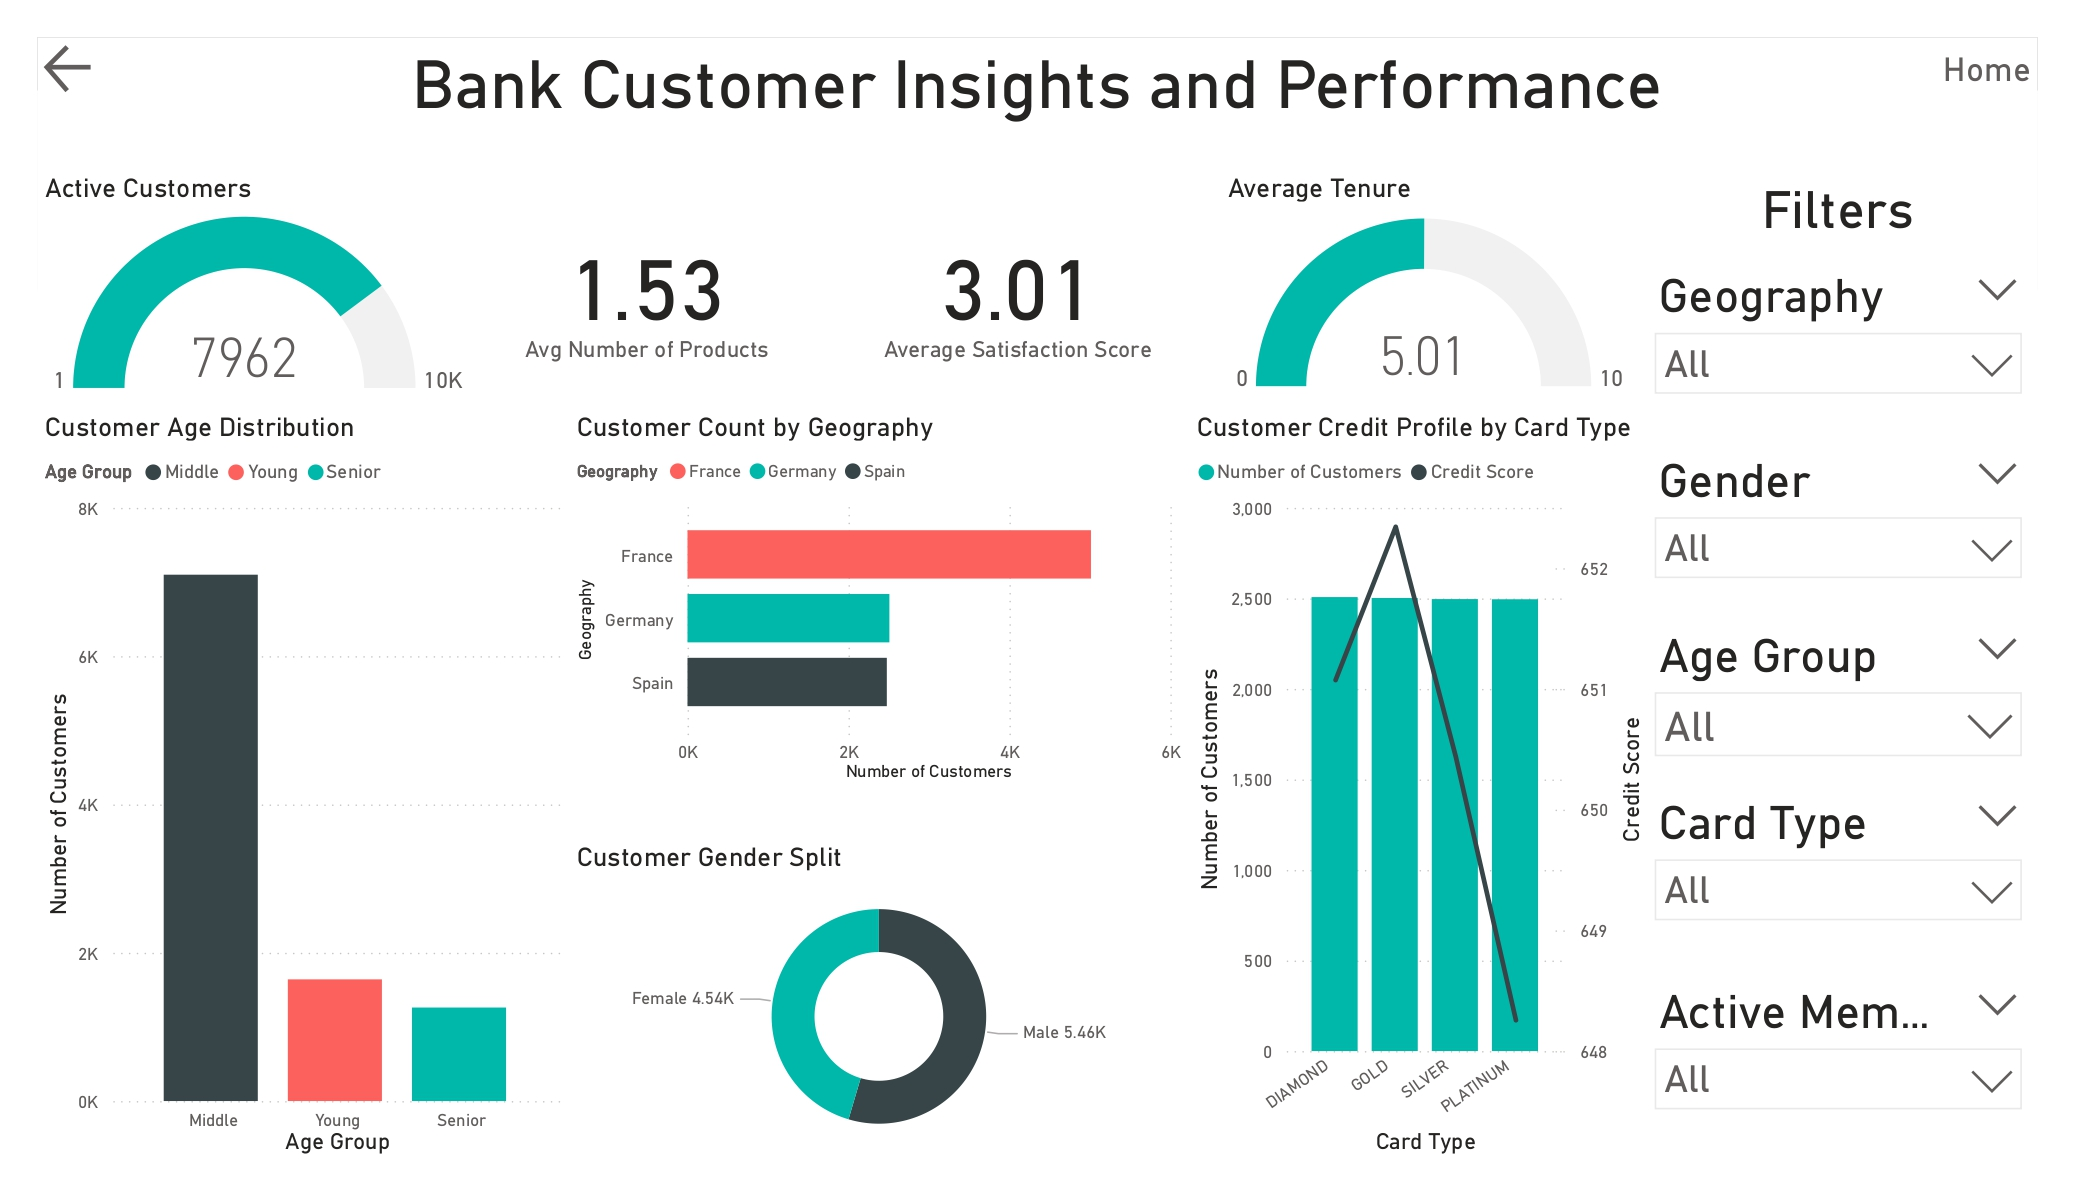

What the dashboard file says about the page in this screenshot:
{"tool":"powerbi","page":{"name":"Bank Customer Insights & Performance","canvas":[1280,720],"ordinal":2},"visuals":[{"type":"gauge","title":"Active Customers","fields":{"Y":["churn_dataset.Active_Customers"],"MinValue":["Min(churn_dataset.CustomerID)"],"MaxValue":["Max(churn_dataset.CustomerID)"]},"box":[0,86.1,282.4,152.5],"z":0},{"type":"textbox","box":[0,0,1280.5,86.1],"z":1000},{"type":"card","title":"Average Number of Products","fields":{"Values":["Avg(churn_dataset.NumOfProducts)"]},"box":[282.4,86.1,216,152.5],"z":2000},{"type":"gauge","title":"Average Tenure","fields":{"Y":["Avg(churn_dataset.Tenure)"],"MinValue":["Min(churn_dataset.Tenure)"],"MaxValue":["Max(churn_dataset.Tenure)"]},"box":[756.7,86.1,268.2,152.5],"z":3000},{"type":"card","fields":{"Values":["Avg(churn_dataset.Satisfaction_Score)"]},"box":[498.4,86.1,258.4,152.5],"z":4000},{"type":"slicer","fields":{"Values":["churn_dataset.Geography"]},"box":[1024.9,142.6,255.5,118.6],"z":5000},{"type":"slicer","fields":{"Values":["churn_dataset.Card_Type"]},"box":[1024.9,480,255.5,121.4],"z":6000},{"type":"slicer","fields":{"Values":["churn_dataset.age_group"]},"box":[1024.9,372.7,255.5,117.2],"z":7000},{"type":"slicer","fields":{"Values":["churn_dataset.Gender"]},"box":[1024.9,261.2,255.5,111.5],"z":8000},{"type":"slicer","fields":{"Values":["churn_dataset.IsActiveMember - Copy"]},"box":[1024.9,601.4,255.5,118.6],"z":9000},{"type":"barChart","title":"Customer Count by Geography","fields":{"Y":["CountNonNull(churn_dataset.CustomerID)"],"Category":["churn_dataset.Geography"],"Series":["churn_dataset.Geography"]},"box":[340.2,238.6,396.7,241.4],"z":10000},{"type":"columnChart","title":"Customer Age Distribution","fields":{"Category":["churn_dataset.age_group"],"Y":["CountNonNull(churn_dataset.CustomerID)"],"Series":["churn_dataset.age_group"]},"box":[0,238.6,340.2,481.4],"z":11000},{"type":"donutChart","title":"Customer Gender Split","fields":{"Category":["churn_dataset.Gender"],"Y":["CountNonNull(churn_dataset.CustomerID)"]},"box":[340.2,513.9,396.7,206.1],"z":12000},{"type":"lineClusteredColumnComboChart","title":"Customer Credit Profile by Card Type","fields":{"Y":["CountNonNull(churn_dataset.CustomerID)"],"Y2":["Avg(churn_dataset.CreditScore)"],"Category":["churn_dataset.Card_Type"]},"box":[736.9,238.6,295.1,481.4],"z":13000},{"type":"textbox","box":[1024.9,86.1,255.5,56.5],"z":14000},{"type":"actionButton","box":[0,0,45.2,39.5],"z":14001},{"type":"actionButton","box":[1211.3,0,69.2,39.5],"z":14002}]}

Visuals, with their boxes on the page's 1280x720 design canvas (x1, y1, x2, y2). These are canvas units, not pixel positions in the 2075x1200 screenshot, which may show the page scaled, cropped or inside an application window:
"Active Customers" gauge: rect(0, 86, 282, 239)
textbox: rect(0, 0, 1280, 86)
"Average Number of Products" card: rect(282, 86, 498, 239)
"Average Tenure" gauge: rect(757, 86, 1025, 239)
card - Avg(churn_dataset.Satisfaction_Score): rect(498, 86, 757, 239)
slicer - churn_dataset.Geography: rect(1025, 143, 1280, 261)
slicer - churn_dataset.Card_Type: rect(1025, 480, 1280, 601)
slicer - churn_dataset.age_group: rect(1025, 373, 1280, 490)
slicer - churn_dataset.Gender: rect(1025, 261, 1280, 373)
slicer - churn_dataset.IsActiveMember - Copy: rect(1025, 601, 1280, 720)
"Customer Count by Geography" barChart: rect(340, 239, 737, 480)
"Customer Age Distribution" columnChart: rect(0, 239, 340, 720)
"Customer Gender Split" donutChart: rect(340, 514, 737, 720)
"Customer Credit Profile by Card Type" lineClusteredColumnComboChart: rect(737, 239, 1032, 720)
textbox: rect(1025, 86, 1280, 143)
actionButton: rect(0, 0, 45, 40)
actionButton: rect(1211, 0, 1280, 40)
